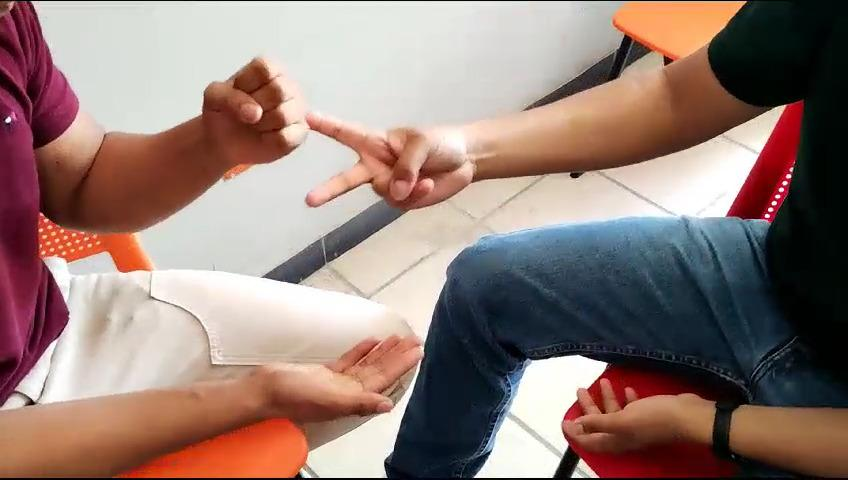Scissor: (293, 105, 495, 217)
Stone: (183, 52, 319, 178)
